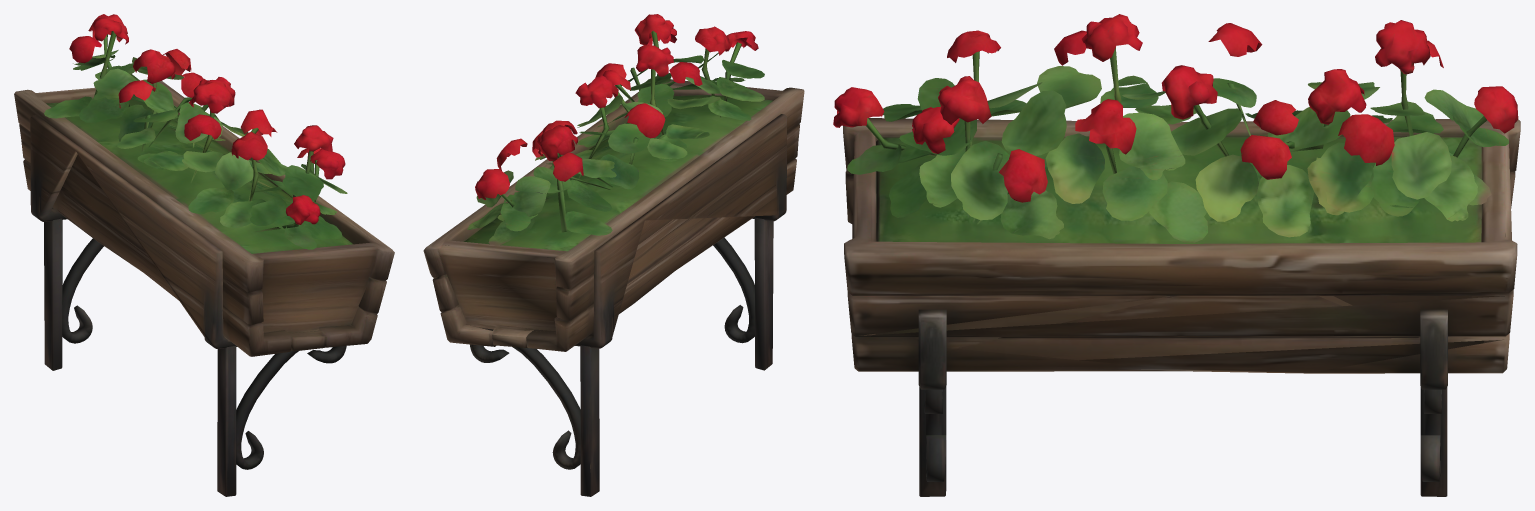
File: SM_Env_SohoWindowFlowerbox.fbx
3 renders of one model, left to right at view 1: azimuth 30°, elevation 25°; view 2: azimuth 150°, elevation 25°; view 3: azimuth 270°, elevation 25°, orthographic. The views are drawn at different scales.
Parts seen in each view (by area): view 1: SM_Env_SohoWindowFlowerbox; view 2: SM_Env_SohoWindowFlowerbox; view 3: SM_Env_SohoWindowFlowerbox.
Boxes of the visible parts, box(x1,y1,x2,y2) form: SM_Env_SohoWindowFlowerbox: box(14, 14, 394, 496); SM_Env_SohoWindowFlowerbox: box(423, 14, 804, 496); SM_Env_SohoWindowFlowerbox: box(833, 14, 1520, 496).
Size of the model in its own units: 5.63 by 14.65 by 12.
1 material, 1 textured.
